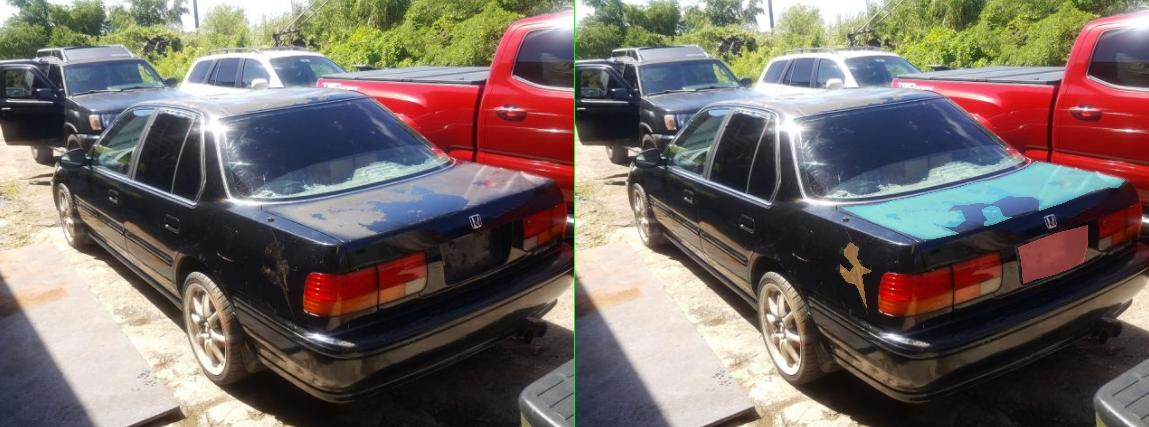Flaking: (532, 161, 1099, 238), (815, 206, 873, 225)
Missing part: (887, 225, 1025, 283)
Paint chip: (530, 242, 593, 307)
